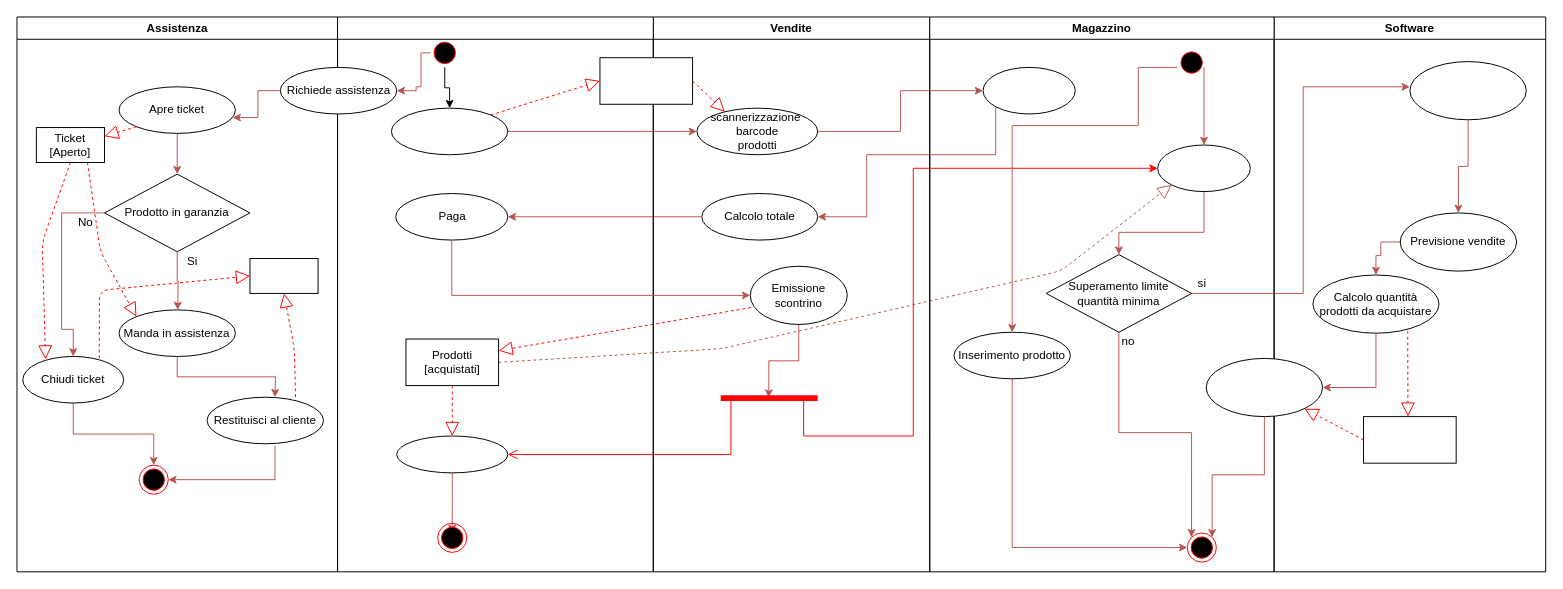
This 1563x589 diagram has some shape labels left out. The box of each missing label's shape, as (x1, y1, x2, y2) in pixels:
aggiornamento dati: (1157, 144, 1250, 192)
Analisi statistica vendite prodotto: (1409, 61, 1526, 120)
Cliente: (337, 16, 653, 572)
Ottieni prezzo prodotti: (982, 66, 1075, 114)
Prende prodotti: (396, 435, 508, 473)
Prodotti [selezionati]: (599, 57, 693, 104)
Proposta di acquisto: (1363, 416, 1456, 463)
richiesta acquisto nuovi prodotti: (1205, 357, 1323, 417)
Seleziona prodotti da acquistare: (390, 107, 508, 155)
Ticket [Chiuso]: (249, 258, 318, 293)
